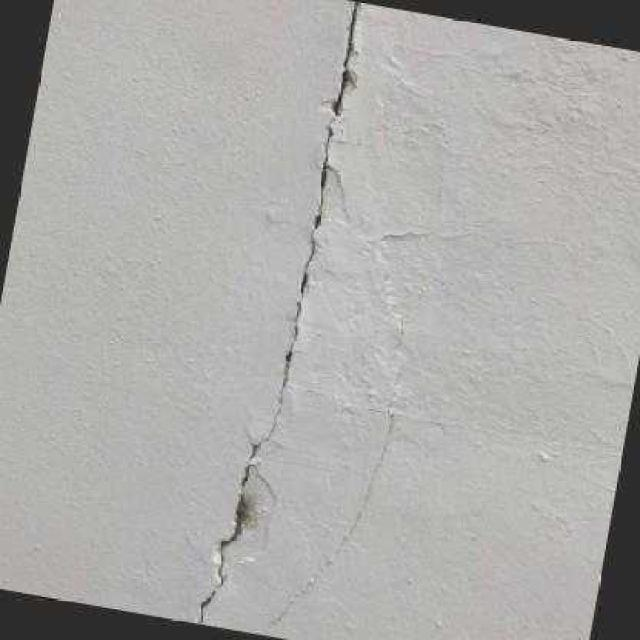D00: (196, 1, 358, 624)
